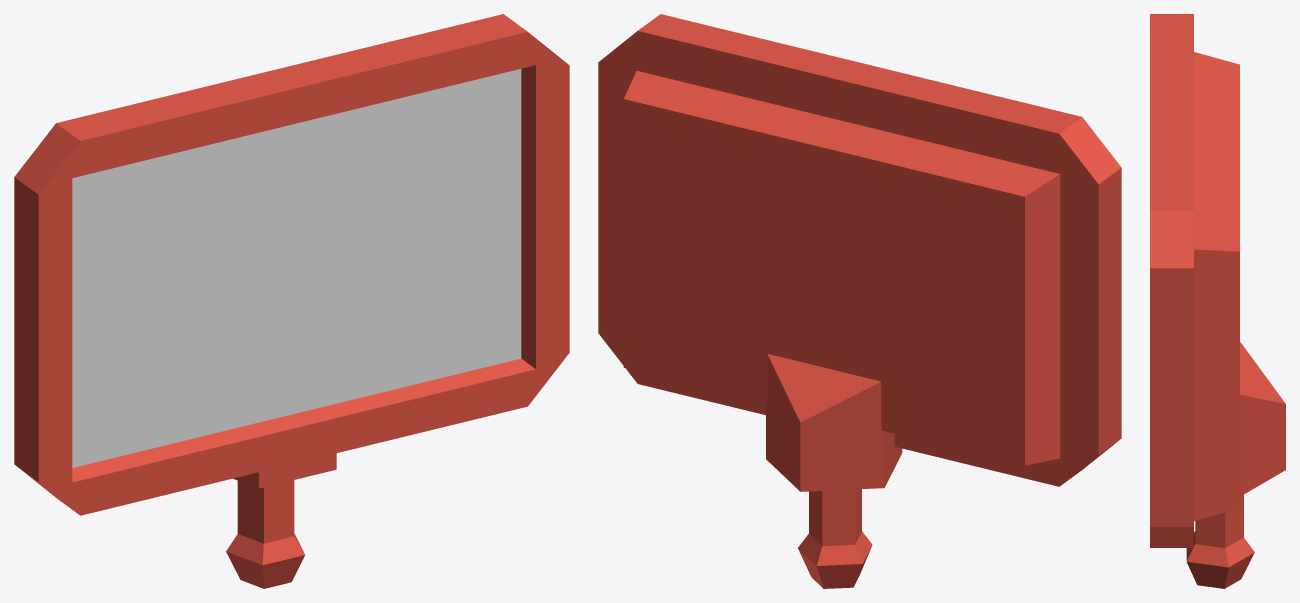
The model's file is SM_Light_Square_Small_Light.fbx.
The picture shows the model from 3 angles, left to right: view 1: azimuth 30°, elevation 25°; view 2: azimuth 150°, elevation 25°; view 3: azimuth 270°, elevation 25°; orthographic projection. The views are drawn at different scales.
Visible parts, largest first — view 1: SM_Light_Square_Small_Light; view 2: SM_Light_Square_Small_Light; view 3: SM_Light_Square_Small_Light.
Part boxes in pixels (x1=…): SM_Light_Square_Small_Light: x1=14, y1=14, x2=569, y2=588; SM_Light_Square_Small_Light: x1=598, y1=14, x2=1121, y2=588; SM_Light_Square_Small_Light: x1=1150, y1=14, x2=1285, y2=588.
Bounding box in the file's own units: 4.99 × 20.28 × 18.92.
